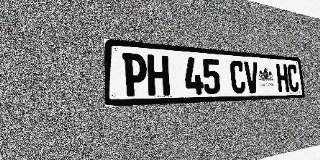4: (184, 57, 204, 95)
5: (202, 58, 221, 94)
C: (229, 60, 246, 94), (287, 64, 299, 92)
H: (147, 54, 170, 96), (276, 63, 289, 92)
P: (122, 53, 147, 97)
V: (244, 61, 259, 93)
